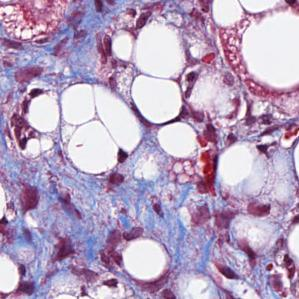ballooning: (57, 79, 145, 177), (119, 235, 176, 286)
